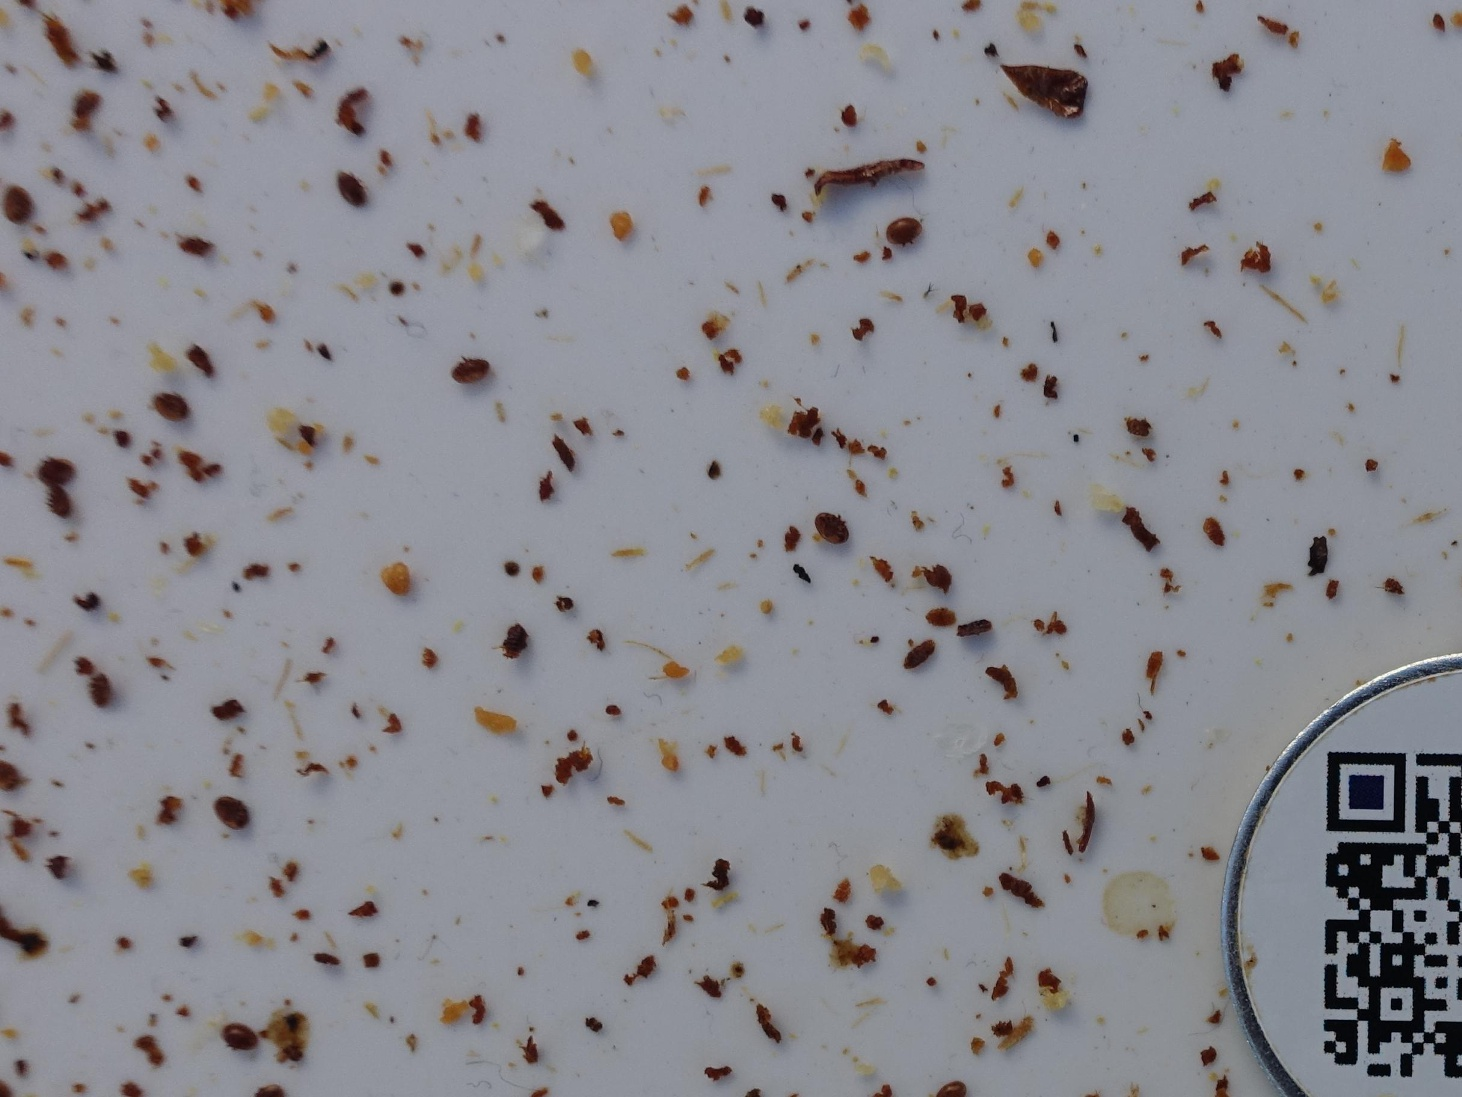Varroa: (333, 171, 370, 209), (41, 485, 78, 522), (37, 452, 74, 489), (453, 355, 483, 386), (818, 510, 847, 539), (219, 802, 245, 829), (230, 1021, 256, 1047), (165, 395, 188, 421), (894, 221, 912, 239)
